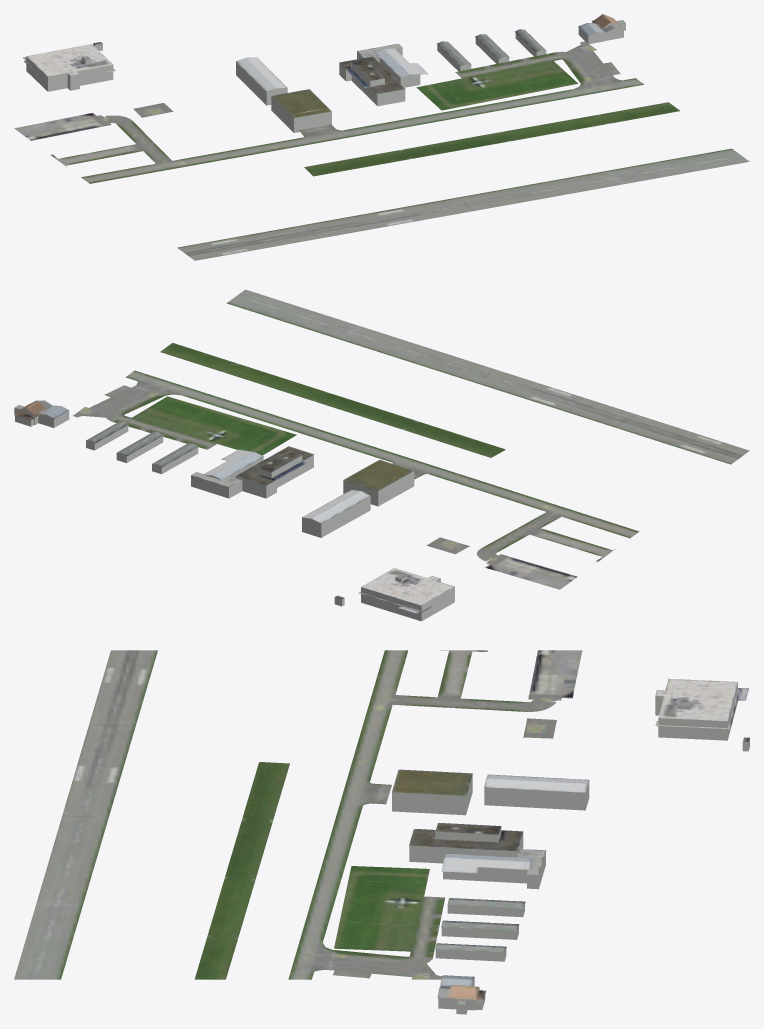
Rendered from LSZR_-1_0.glb.
3 views of the same model, one above another, from view 1: azimuth 30°, elevation 25°; view 2: azimuth 150°, elevation 25°; view 3: azimuth 270°, elevation 25° (orthographic). The views are drawn at different scales.
Visible parts, largest first — view 1: pavement_LSZR_pavement_5519_2523, building_b7cf4faff72455af, building_b22b3346645a41ea, building_f27999d648ec5981, building_a7875cf94f426d18, building_a6baa01c3704d500, building_cbd846502bf66f62, building_3d723e82052dd967, building_4c909edda37cbda2, building_3cf4995b6aff21ae, building_f72c76ffe94635d7; view 2: pavement_LSZR_pavement_5519_2523, building_b7cf4faff72455af, building_f27999d648ec5981, building_b22b3346645a41ea, building_a7875cf94f426d18, building_a6baa01c3704d500, building_3d723e82052dd967, building_cbd846502bf66f62, building_f72c76ffe94635d7, building_4c909edda37cbda2, building_3cf4995b6aff21ae; view 3: pavement_LSZR_pavement_5519_2523, building_b7cf4faff72455af, building_f27999d648ec5981, building_b22b3346645a41ea, building_a6baa01c3704d500, building_3d723e82052dd967, building_f72c76ffe94635d7, building_cbd846502bf66f62, building_a7875cf94f426d18, building_4c909edda37cbda2, building_3cf4995b6aff21ae.
Part boxes in pixels (x1=…): pavement_LSZR_pavement_5519_2523: x1=14, y1=41, x2=749, y2=260; building_b7cf4faff72455af: x1=339, y1=41, x2=471, y2=94; building_b22b3346645a41ea: x1=23, y1=42, x2=115, y2=76; building_f27999d648ec5981: x1=339, y1=45, x2=471, y2=106; building_a7875cf94f426d18: x1=26, y1=44, x2=113, y2=91; building_a6baa01c3704d500: x1=475, y1=14, x2=625, y2=59; building_cbd846502bf66f62: x1=271, y1=89, x2=331, y2=118; building_3d723e82052dd967: x1=475, y1=22, x2=625, y2=63; building_4c909edda37cbda2: x1=271, y1=96, x2=331, y2=132; building_3cf4995b6aff21ae: x1=235, y1=57, x2=287, y2=92; building_f72c76ffe94635d7: x1=236, y1=62, x2=287, y2=105; pavement_LSZR_pavement_5519_2523: x1=73, y1=289, x2=749, y2=589; building_b7cf4faff72455af: x1=151, y1=443, x2=314, y2=487; building_f27999d648ec5981: x1=152, y1=447, x2=313, y2=498; building_b22b3346645a41ea: x1=334, y1=568, x2=454, y2=613; building_a7875cf94f426d18: x1=334, y1=576, x2=454, y2=621; building_a6baa01c3704d500: x1=14, y1=400, x2=163, y2=456; building_3d723e82052dd967: x1=14, y1=408, x2=163, y2=462; building_cbd846502bf66f62: x1=343, y1=459, x2=413, y2=491; building_f72c76ffe94635d7: x1=302, y1=497, x2=370, y2=537; building_4c909edda37cbda2: x1=343, y1=471, x2=414, y2=506; building_3cf4995b6aff21ae: x1=302, y1=489, x2=370, y2=523; pavement_LSZR_pavement_5519_2523: x1=14, y1=650, x2=582, y2=979; building_b7cf4faff72455af: x1=409, y1=822, x2=546, y2=908; building_f27999d648ec5981: x1=409, y1=827, x2=545, y2=917; building_b22b3346645a41ea: x1=655, y1=678, x2=749, y2=742; building_a6baa01c3704d500: x1=435, y1=920, x2=519, y2=1005; building_3d723e82052dd967: x1=435, y1=926, x2=518, y2=1014; building_f72c76ffe94635d7: x1=484, y1=781, x2=589, y2=810; building_cbd846502bf66f62: x1=392, y1=769, x2=472, y2=796; building_a7875cf94f426d18: x1=655, y1=683, x2=749, y2=751; building_4c909edda37cbda2: x1=392, y1=775, x2=472, y2=815; building_3cf4995b6aff21ae: x1=484, y1=774, x2=589, y2=792.
Bounding box in the file's own units: 545 × 17.13 × 472.
3 materials, 2 textured.
